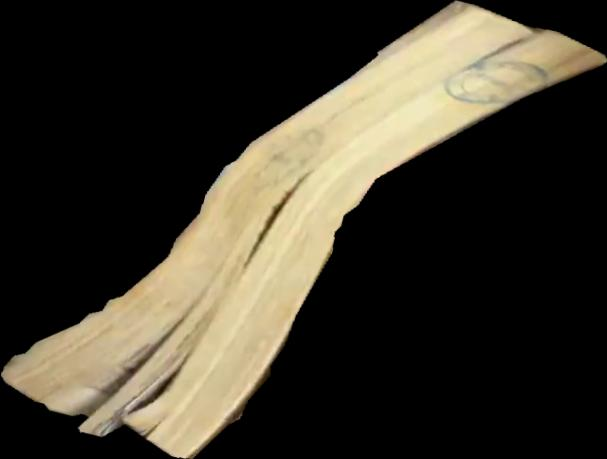backward: (1, 1, 607, 459)
